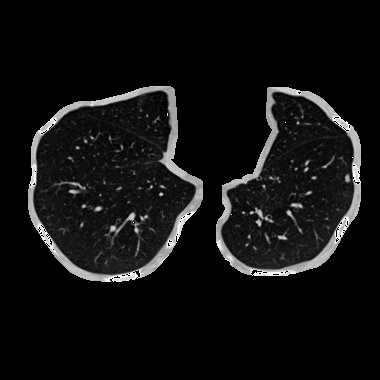PN: (344, 175, 350, 181)
